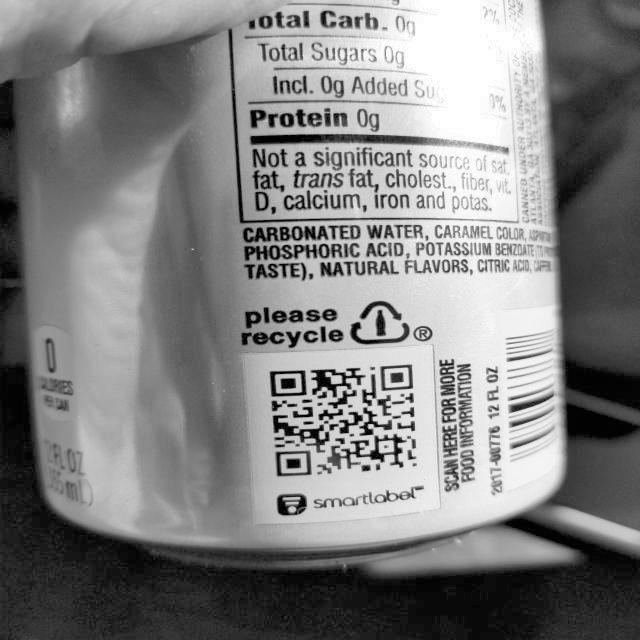qr_code: (259, 352, 426, 486)
